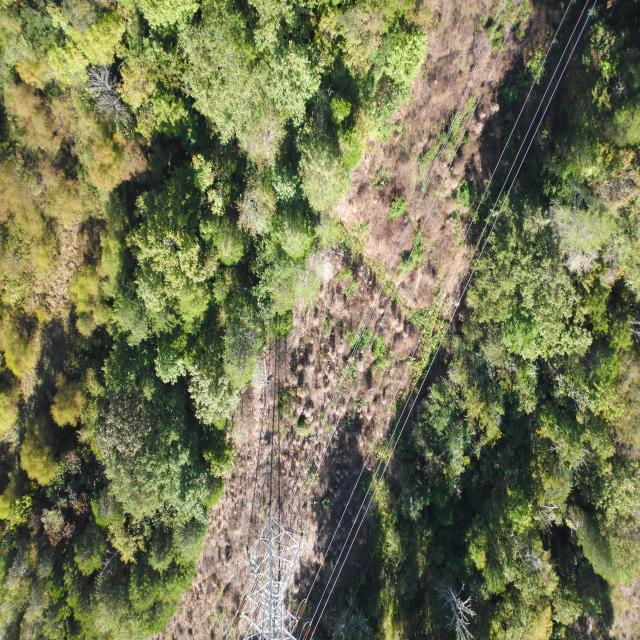Area of Interest: (11, 14, 424, 627), (369, 15, 639, 629)
